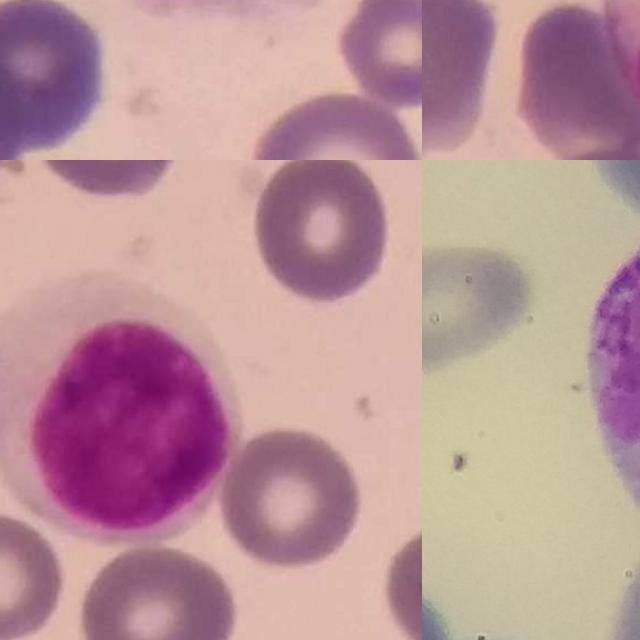Monocyte: (0, 273, 246, 547)
